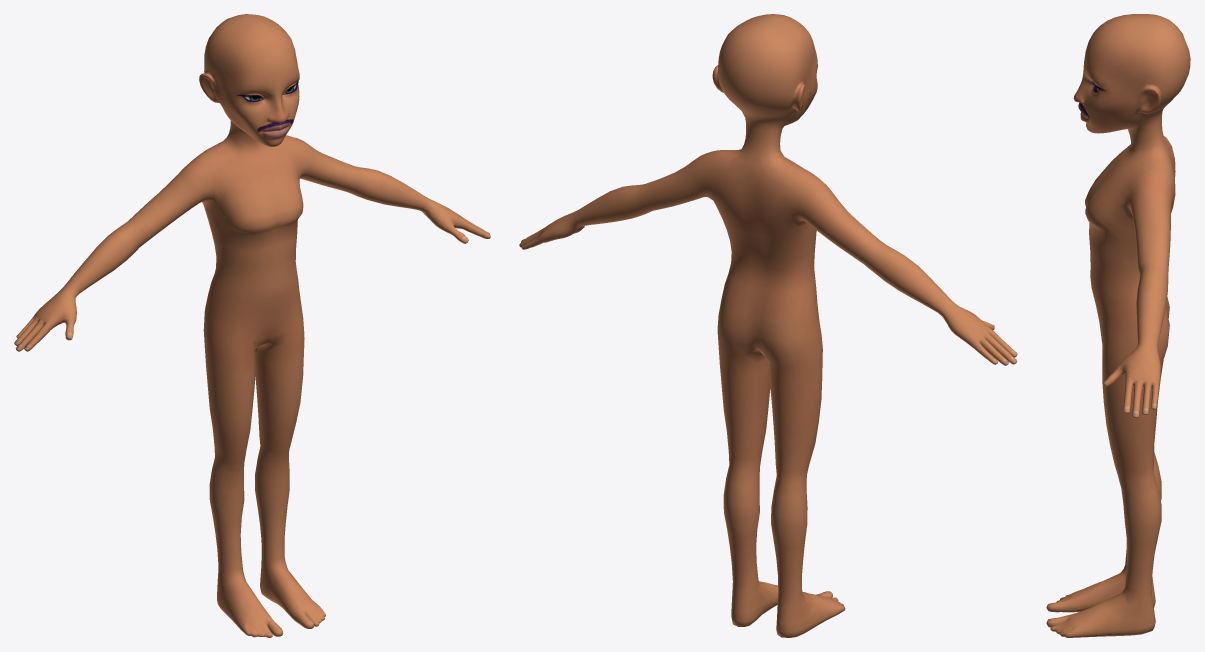
File: frame_0013.glb
The picture shows the model from 3 angles, left to right: view 1: azimuth 30°, elevation 25°; view 2: azimuth 150°, elevation 25°; view 3: azimuth 270°, elevation 25°; orthographic projection. The views are drawn at different scales.
Visible parts, largest first — view 1: frame_0013_head_geo; view 2: frame_0013_head_geo; view 3: frame_0013_head_geo.
Part boxes in pixels (left/top/right/bottom): frame_0013_head_geo: left=14, top=14, right=490, bottom=637; frame_0013_head_geo: left=519, top=14, right=1017, bottom=637; frame_0013_head_geo: left=1046, top=14, right=1190, bottom=637.
Bounding box in the file's own units: 1.28 × 1.5 × 0.3253.
3 materials, 3 textured.
